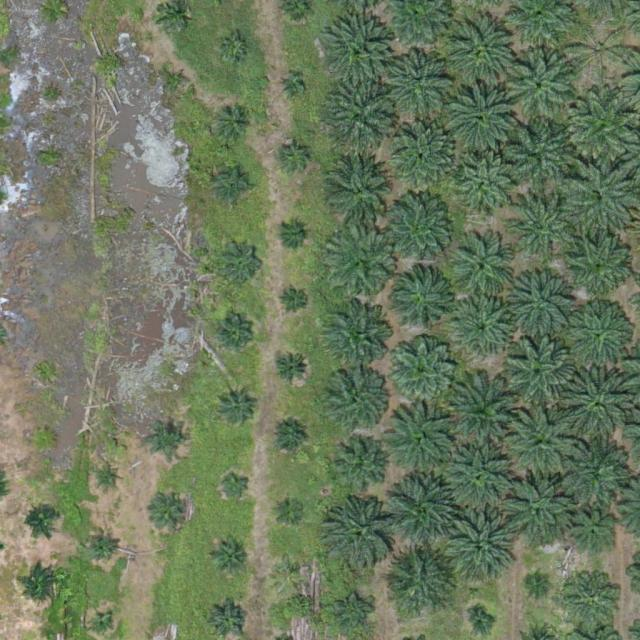Healthy: (448, 374, 526, 453), (321, 496, 399, 575), (444, 442, 515, 513), (325, 81, 396, 152), (502, 120, 573, 191), (567, 91, 638, 162), (562, 230, 633, 301), (501, 471, 571, 542), (388, 408, 458, 479), (383, 545, 453, 616), (325, 17, 395, 88), (325, 153, 396, 223), (507, 53, 578, 123), (383, 196, 453, 267), (387, 336, 457, 407), (322, 305, 392, 376), (327, 231, 397, 302), (564, 370, 634, 440), (555, 433, 625, 503), (508, 407, 578, 477), (443, 510, 513, 580), (389, 474, 459, 544), (450, 15, 520, 85), (447, 82, 517, 152), (565, 165, 635, 235), (507, 193, 577, 263), (505, 338, 575, 408), (394, 123, 457, 186), (510, 271, 573, 334), (392, 52, 454, 115), (455, 157, 517, 220), (569, 306, 631, 369), (453, 239, 515, 302), (454, 297, 516, 360), (326, 366, 388, 429), (394, 269, 456, 331), (564, 571, 619, 626), (333, 439, 388, 494), (567, 510, 614, 558)
Small: (219, 239, 266, 286), (272, 349, 312, 389), (148, 418, 187, 458), (23, 502, 62, 542), (216, 105, 255, 145), (217, 387, 256, 427), (209, 536, 249, 575), (334, 593, 373, 633), (271, 419, 310, 459), (155, 491, 194, 530), (24, 565, 63, 604), (216, 318, 255, 357), (216, 166, 255, 205), (280, 141, 311, 173), (275, 492, 306, 524), (274, 553, 305, 585), (221, 469, 252, 501), (278, 219, 309, 251), (220, 34, 251, 65), (88, 530, 119, 561), (280, 286, 311, 317), (529, 574, 553, 598), (98, 466, 122, 490), (92, 615, 116, 639), (167, 70, 191, 94), (281, 75, 305, 99), (34, 429, 58, 453), (470, 612, 493, 636)
Yellow: (569, 21, 632, 84)
